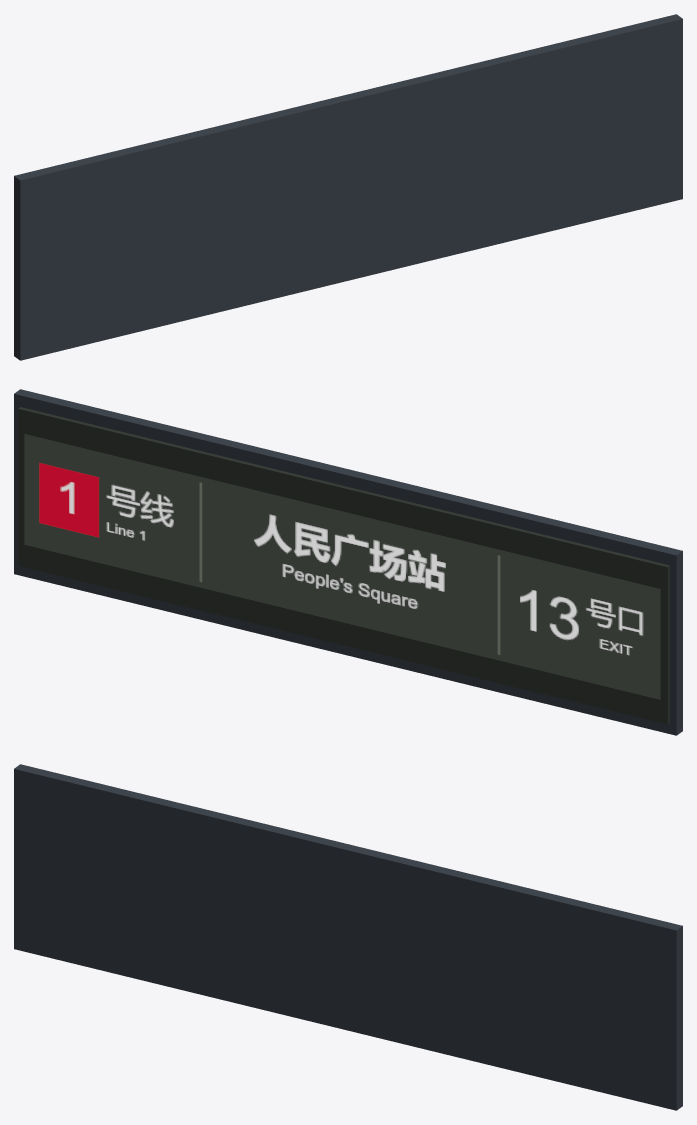
The model's file is city-doorway-shanghai.glb.
3 views of the same model, one above another, from view 1: azimuth 30°, elevation 25°; view 2: azimuth 150°, elevation 25°; view 3: azimuth 330°, elevation 25° (orthographic).
Visible parts, largest first — view 1: CityDoorwayShanghai; view 2: exit-doorway-sign, CityDoorwayShanghai; view 3: CityDoorwayShanghai.
Part boxes in pixels (x1,y1,x2,y2): CityDoorwayShanghai: [14, 14, 682, 360]; exit-doorway-sign: [24, 434, 660, 699]; CityDoorwayShanghai: [14, 389, 682, 735]; CityDoorwayShanghai: [14, 764, 682, 1110].
Size of the model in its own units: 3 by 0.78 by 0.072.
Materials: 3 (1 with a texture image).
